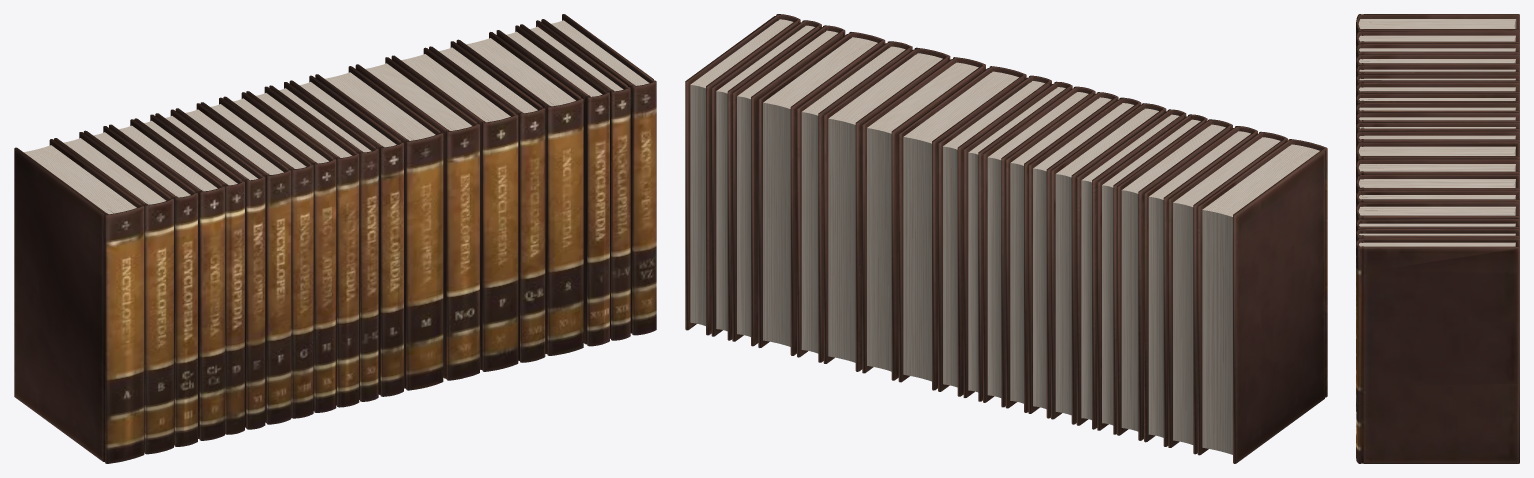
File: book-encyclopedia-set-01.glb
3 views of the same model, side by side, from view 1: azimuth 30°, elevation 25°; view 2: azimuth 150°, elevation 25°; view 3: azimuth 270°, elevation 25° (orthographic). The views are drawn at different scales.
Parts seen in each view (by area): view 1: book_encyclopedia_set_01_book01; view 2: book_encyclopedia_set_01_book01; view 3: book_encyclopedia_set_01_book01.
Boxes of the visible parts, bbox=[...] form: book_encyclopedia_set_01_book01: bbox=[14, 14, 656, 463]; book_encyclopedia_set_01_book01: bbox=[685, 14, 1327, 463]; book_encyclopedia_set_01_book01: bbox=[1356, 14, 1519, 463].
Bounding box in the file's own units: 0.5513 × 0.2374 × 0.1631.
2 materials, 2 textured.
